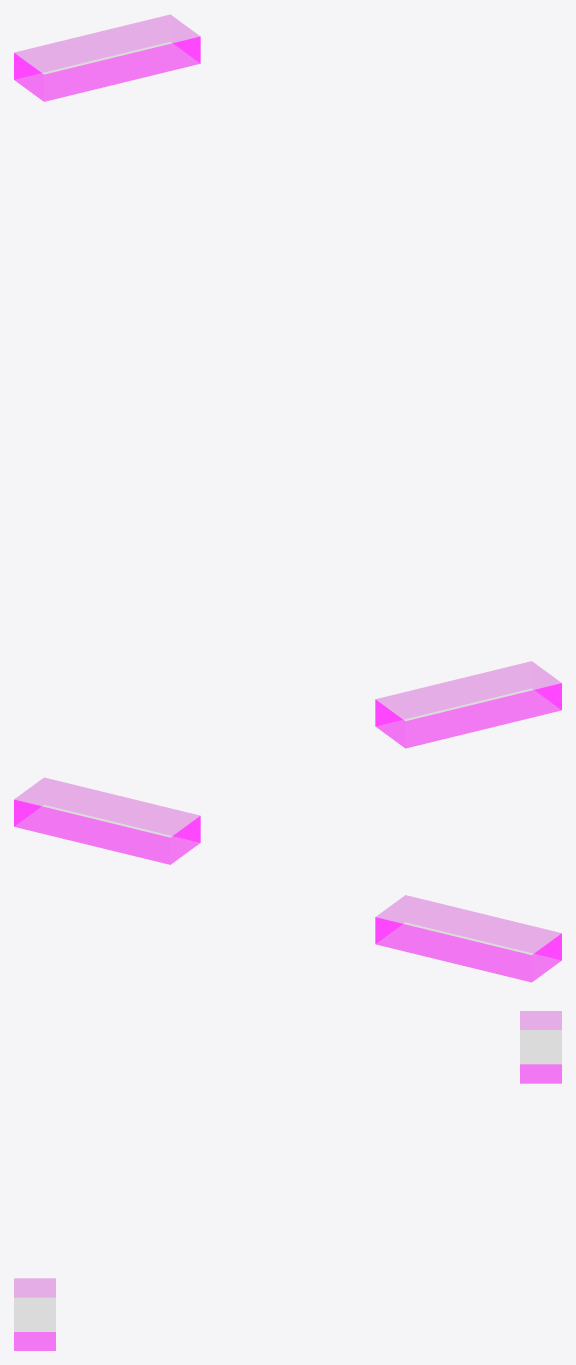
The model's file is (5)H GChanger.fbx.
3 views of the same model, one above another, from view 1: azimuth 30°, elevation 25°; view 2: azimuth 150°, elevation 25°; view 3: azimuth 270°, elevation 25° (orthographic). The views are drawn at different scales.
Parts seen in each view (by area): view 1: Xjump.002, Xjump.003; view 2: Xjump.002, Xjump.003; view 3: Xjump.002, Xjump.003.
Boxes of the visible parts, box(x1,y1,x2,y2) form: Xjump.002: box(375, 661, 561, 748); Xjump.003: box(14, 14, 200, 101); Xjump.002: box(375, 895, 561, 982); Xjump.003: box(14, 777, 200, 864); Xjump.002: box(14, 1278, 55, 1350); Xjump.003: box(520, 1011, 561, 1083).
Bounding box in the file's own units: 600 × 1500 × 2600.
